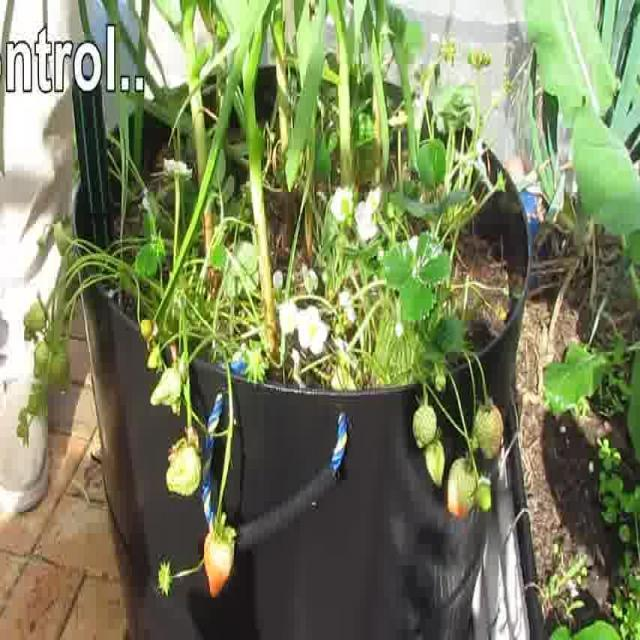Fruta sana: (204, 512, 236, 597), (166, 437, 202, 495), (46, 332, 72, 394), (150, 366, 181, 406), (24, 290, 51, 332), (471, 468, 493, 512), (156, 556, 174, 598), (331, 364, 358, 392), (34, 341, 54, 378), (28, 384, 49, 416), (16, 410, 29, 448), (24, 310, 38, 340), (146, 344, 160, 370), (336, 313, 348, 337), (140, 320, 152, 343), (170, 390, 180, 417), (71, 158, 80, 184), (38, 236, 46, 258), (72, 129, 78, 149)
Moho gris: (448, 456, 478, 518), (474, 406, 504, 458), (424, 426, 446, 490), (412, 405, 437, 448), (54, 212, 72, 258)
